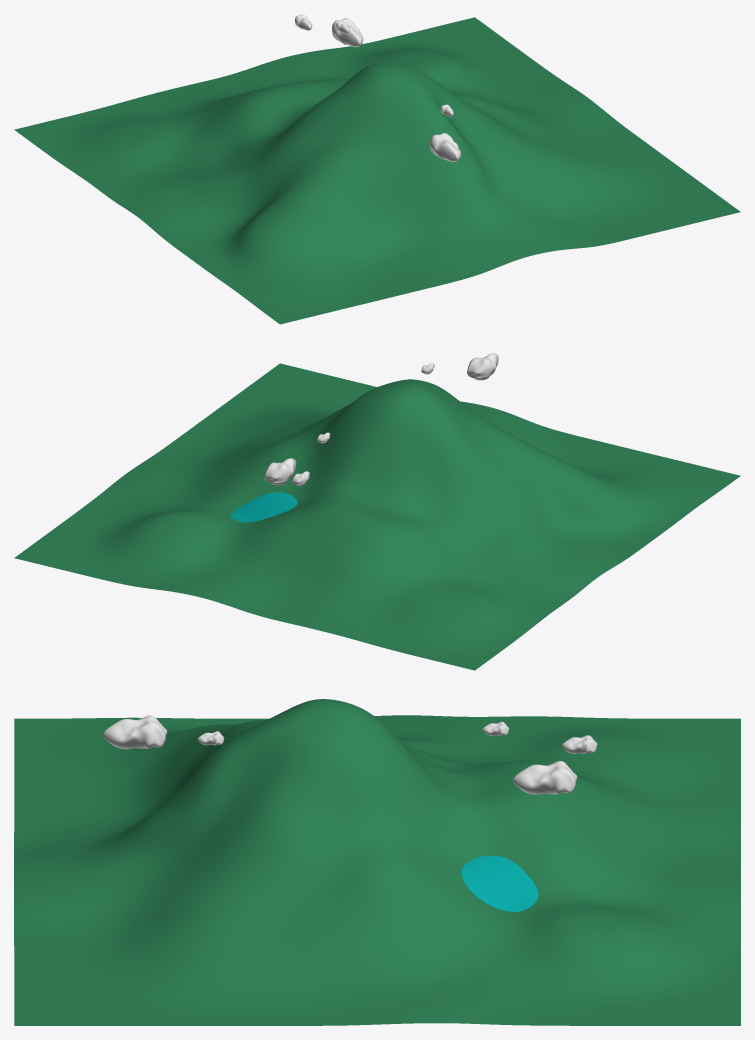
Rendered from green.fbx.
The picture shows the model from 3 angles, top to bottom: view 1: azimuth 30°, elevation 25°; view 2: azimuth 150°, elevation 25°; view 3: azimuth 270°, elevation 25°; orthographic projection. The views are drawn at different scales.
Visible parts, largest first — view 1: pasted__pPlane2, pasted__pasted__pasted__pSphere2, pasted__pasted__pSphere2; view 2: pasted__pPlane2, pasted__pPlane4, pasted__pasted__pasted__pSphere2, pasted__pasted__pSphere2; view 3: pasted__pPlane2, pasted__pPlane4, pasted__pasted__pasted__pSphere2, pasted__pasted__pSphere2.
Part boxes in pixels (x1,y1,x2,y2): pasted__pPlane2: (14,17,740,324); pasted__pasted__pasted__pSphere2: (429,133,460,162); pasted__pasted__pSphere2: (332,18,363,47); pasted__pPlane2: (14,363,740,670); pasted__pPlane4: (230,492,297,522); pasted__pasted__pasted__pSphere2: (467,353,498,380); pasted__pasted__pSphere2: (264,458,296,485); pasted__pPlane2: (14,699,740,1025); pasted__pPlane4: (461,855,538,911); pasted__pasted__pasted__pSphere2: (103,715,167,749); pasted__pasted__pSphere2: (513,761,577,794).
Size of the model in its own units: 213 by 51.87 by 213.
